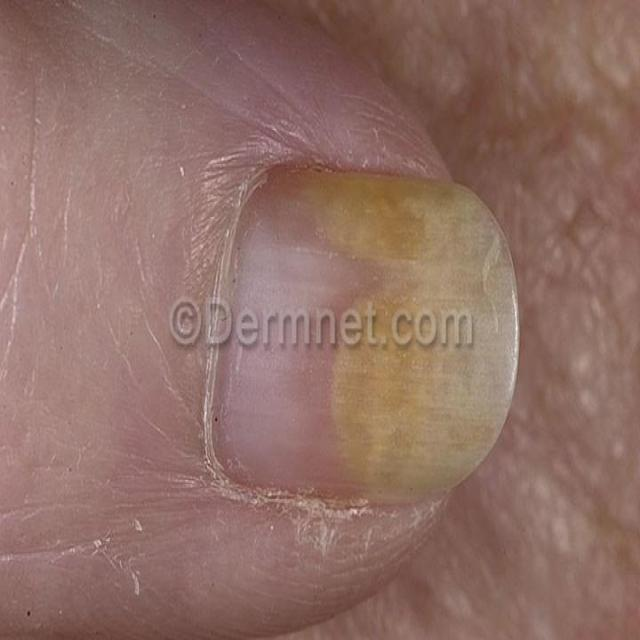Nail: (214, 168, 519, 498)
